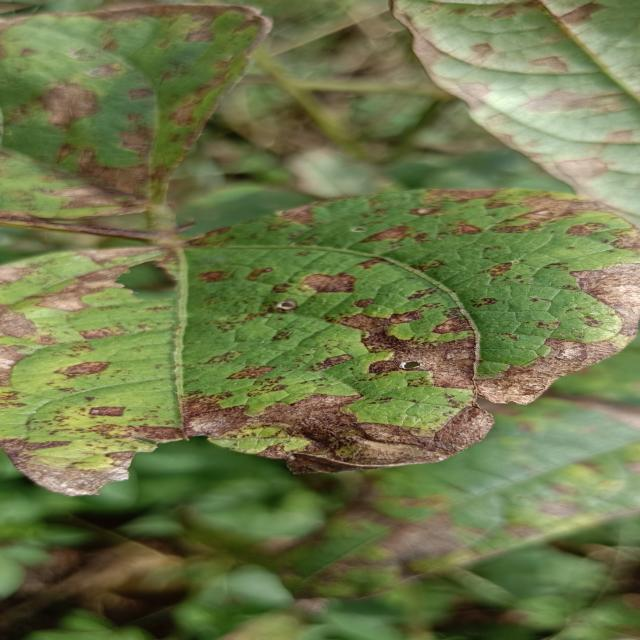Black gram_leaf spot: (0, 188, 640, 474), (0, 0, 272, 215), (401, 0, 640, 215)
